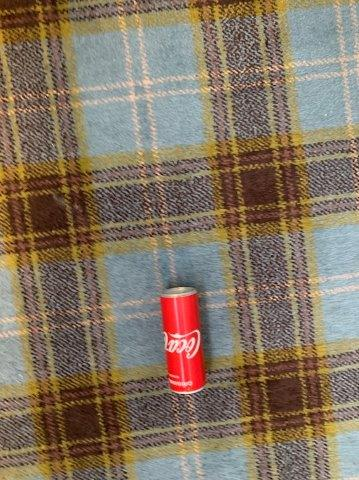kaleng: (161, 287, 205, 393)
